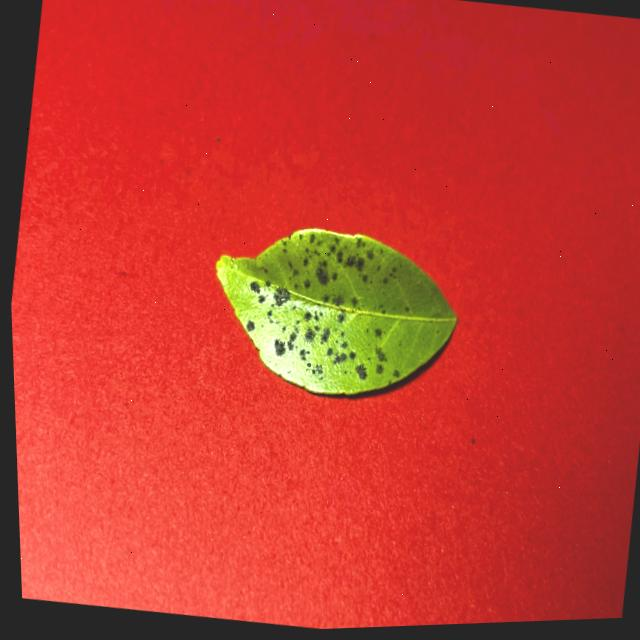sooty_mold: (216, 228, 456, 393)
